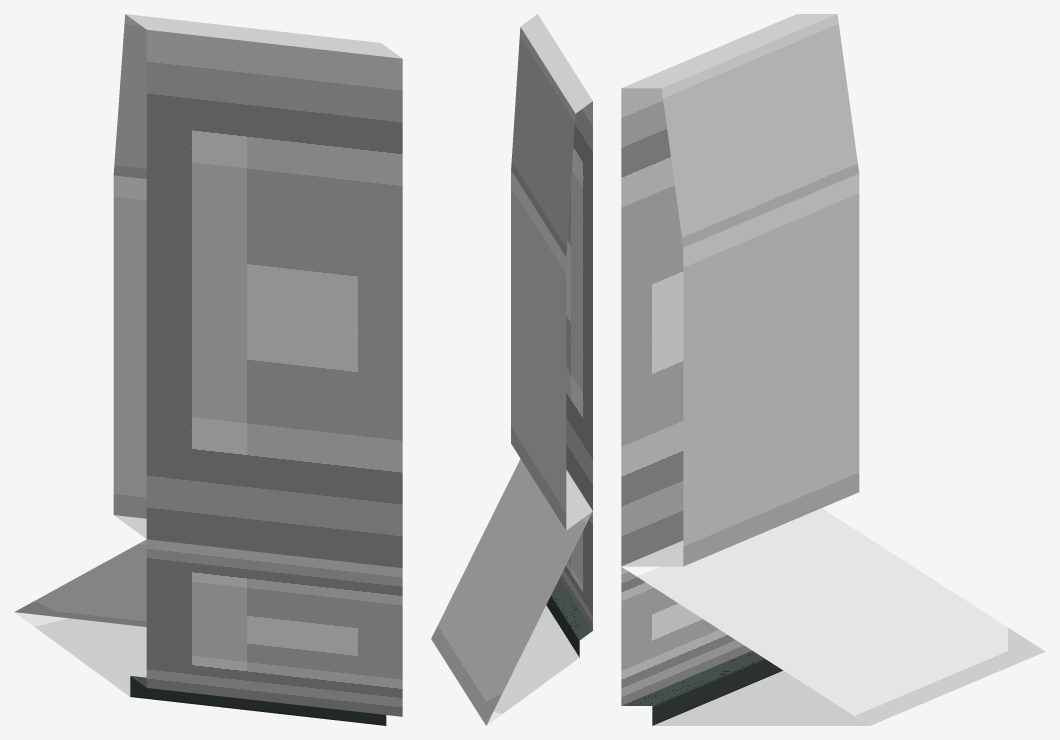
The model's file is run_tall_outside_unit_item.obj.
3 renders of one model, left to right at view 1: azimuth 30°, elevation 25°; view 2: azimuth 150°, elevation 25°; view 3: azimuth 270°, elevation 25°, orthographic. The views are drawn at different scales.
Bounding box in the file's own units: 1 × 4 × 2.41.
